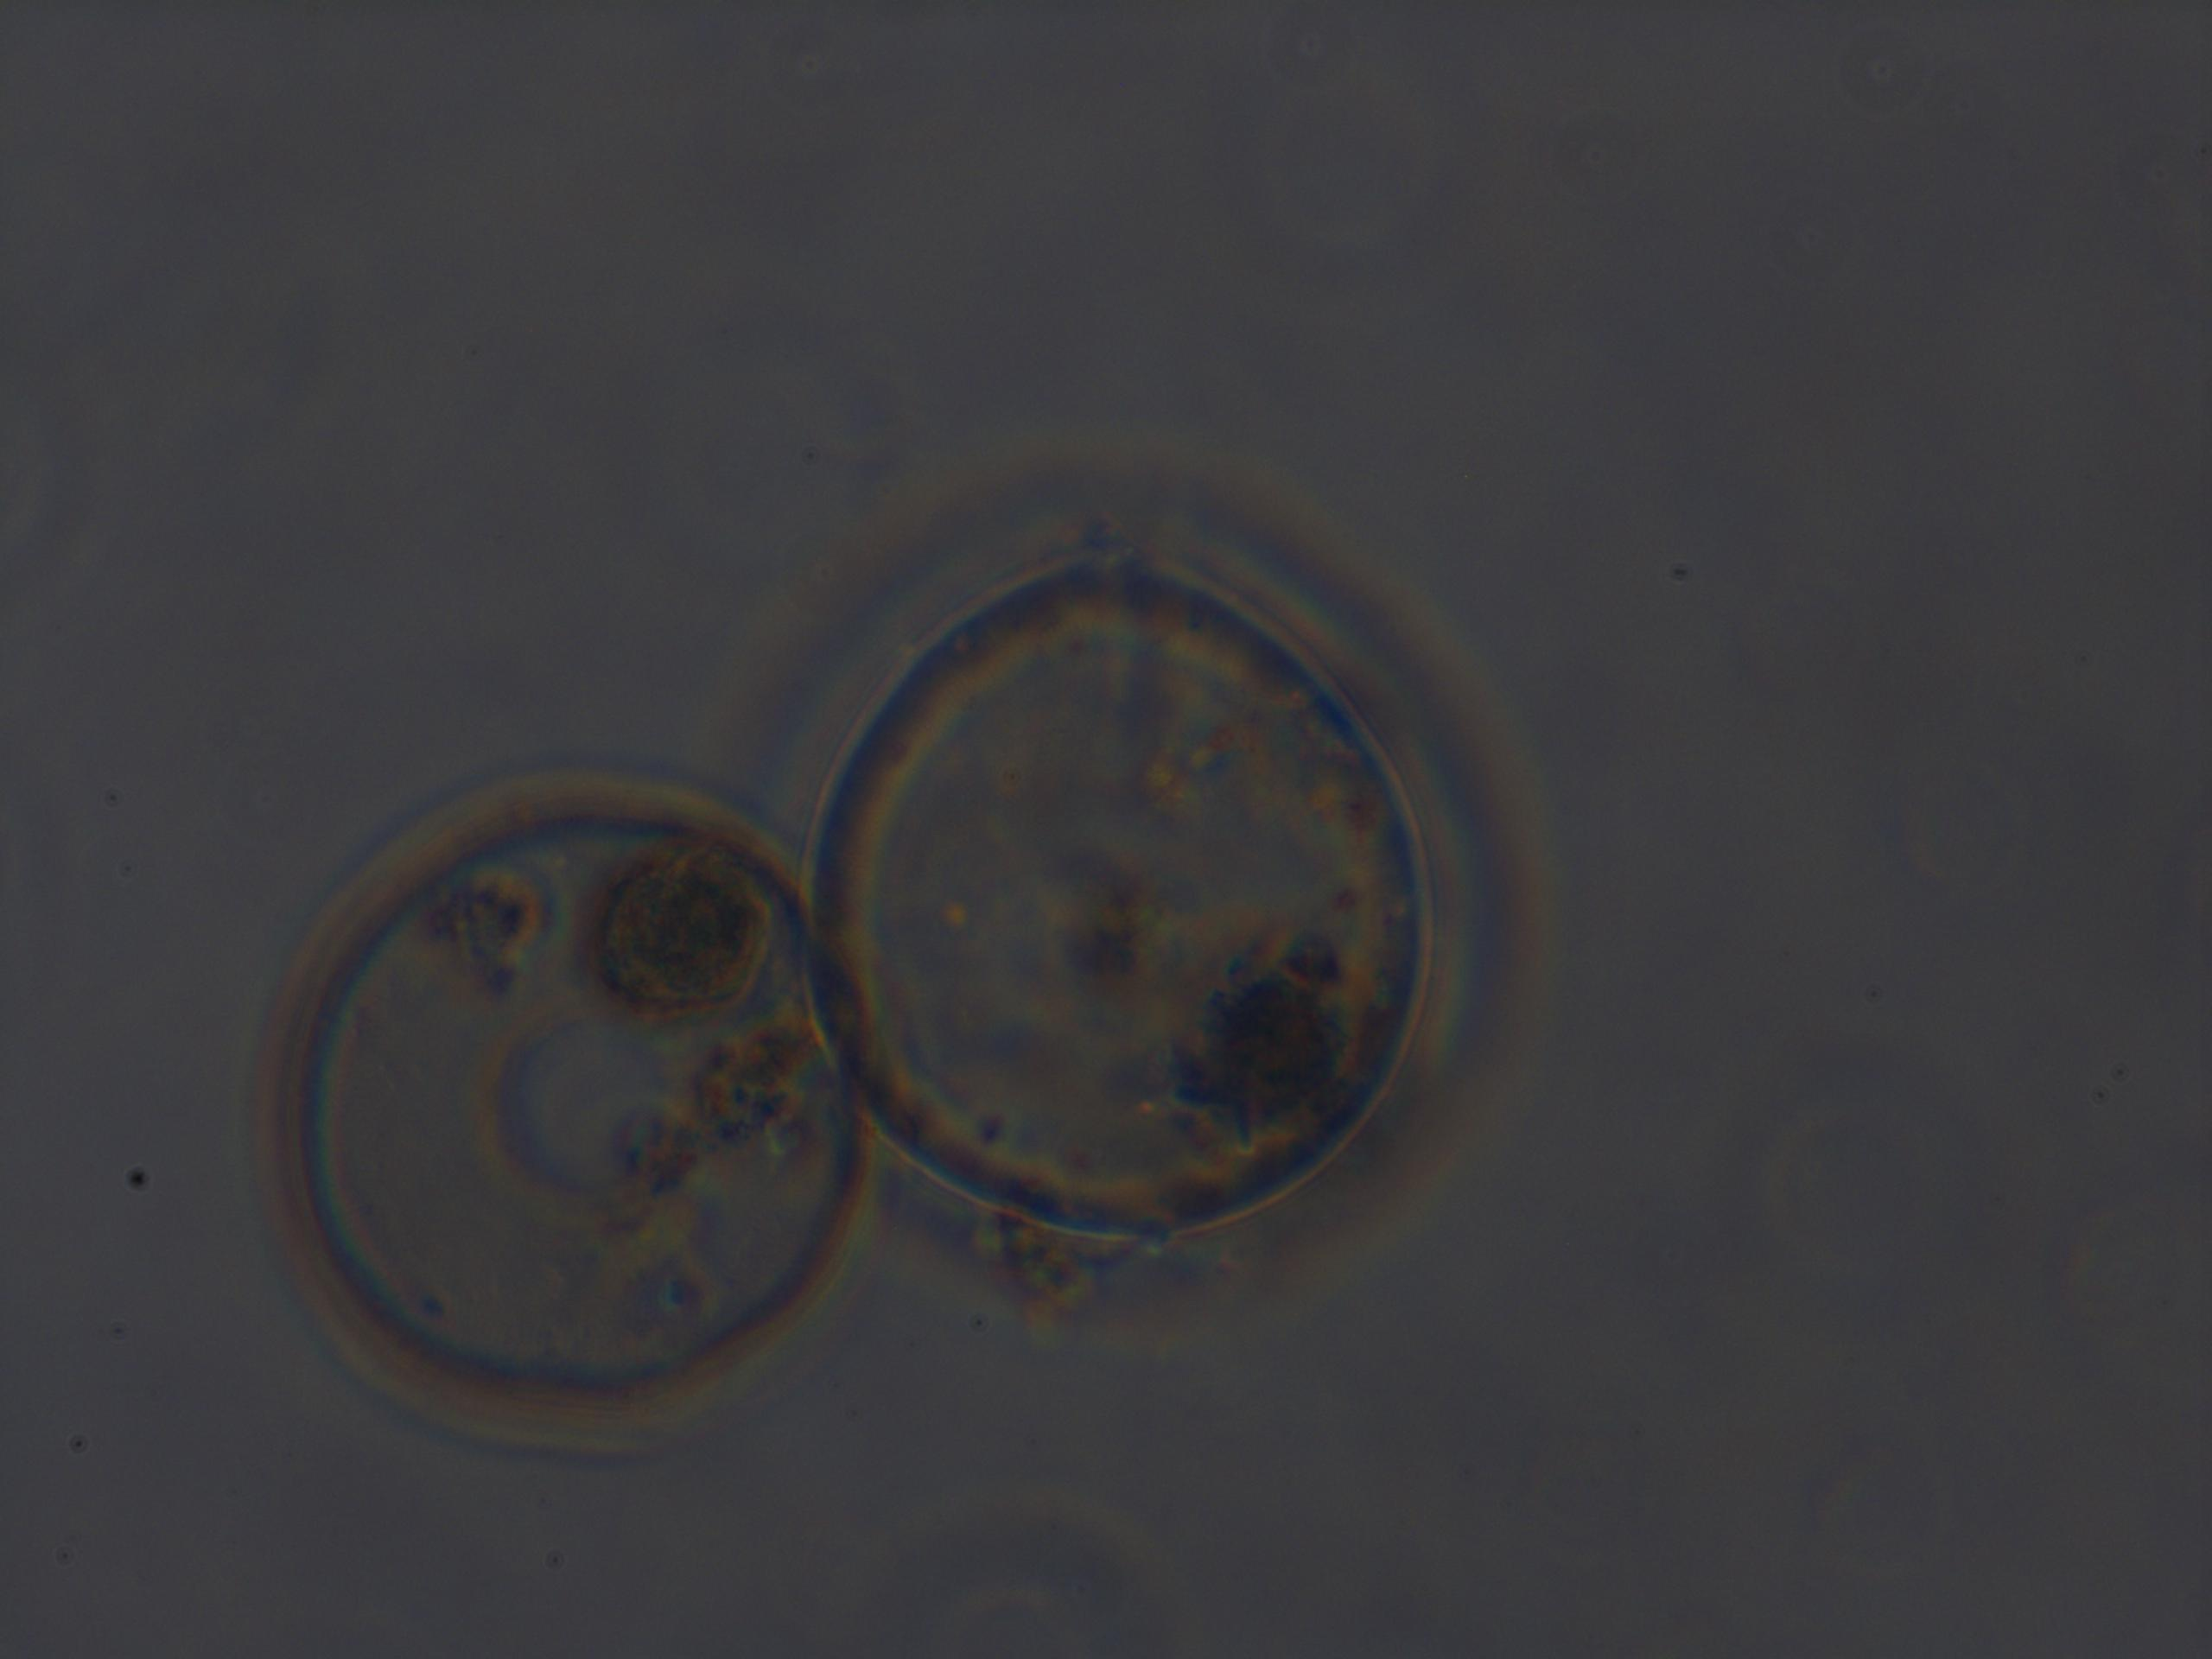protozoa: (728, 439, 1566, 1373), (219, 760, 866, 1460)
